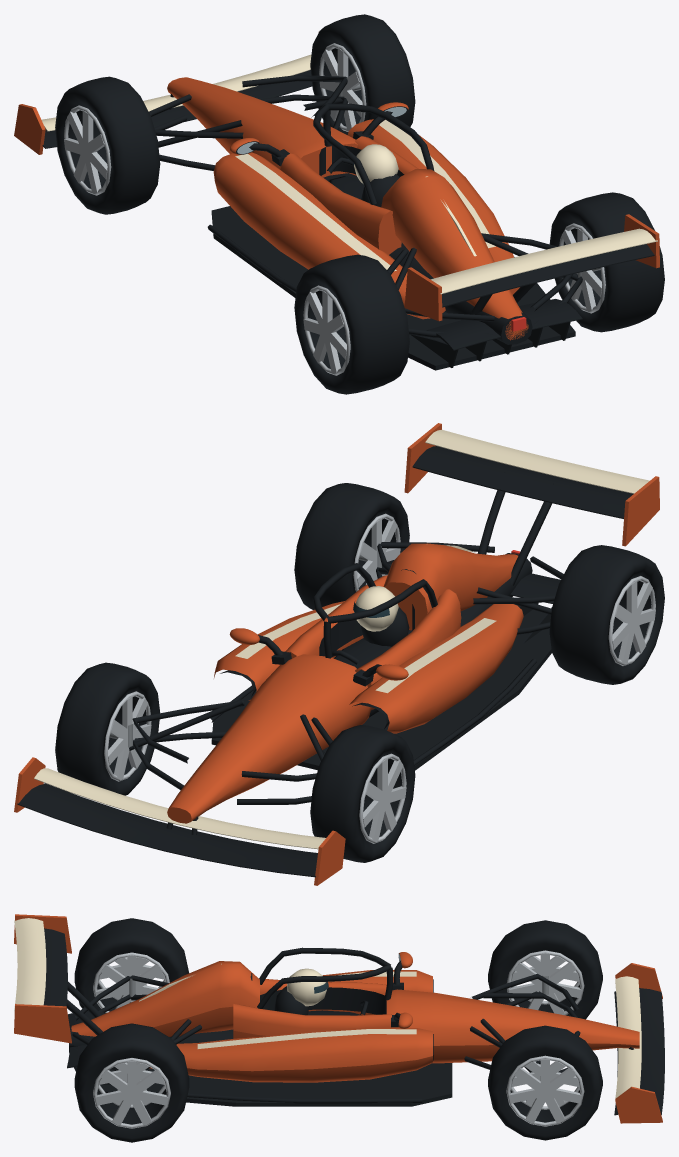
Rendered from formula-low.glb.
3 renders of one model, top to bottom at view 1: azimuth 30°, elevation 25°; view 2: azimuth 150°, elevation 25°; view 3: azimuth 270°, elevation 25°, orthographic. The views are drawn at different scales.
Parts seen in each view (by area): view 1: body_paint, wheel_carbon (×4), body_carbon, body_accent, wheel_rim (×4); view 2: body_paint, body_carbon, wheel_carbon (×4), body_accent, wheel_rim (×4); view 3: body_paint, wheel_carbon (×4), body_carbon, wheel_rim (×4), body_accent.
Part boxes in pixels (x1,y1,x2,y2): body_paint: (14,32,659,340); wheel_carbon (×4): (55,14,664,394); body_carbon: (42,70,654,370); body_accent: (41,54,657,294); wheel_rim (×4): (64,43,605,375); body_paint: (14,423,659,885); body_carbon: (17,446,633,877); wheel_carbon (×4): (55,483,664,862); body_accent: (34,429,649,849); wheel_rim (×4): (104,513,655,843); body_paint: (14,914,662,1123); wheel_carbon (×4): (74,918,602,1142); body_carbon: (43,928,664,1115); wheel_rim (×4): (93,950,584,1128); body_accent: (14,918,641,1098).
Bounding box in the file's own units: 1.11 × 0.494 × 2.38.
